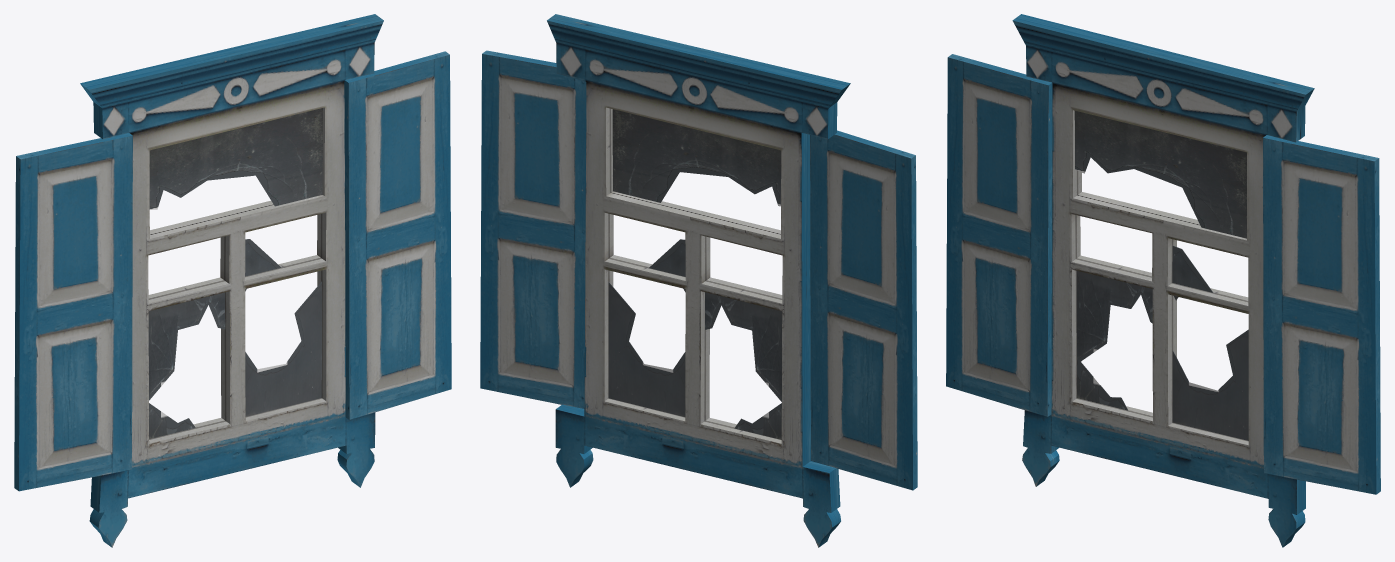
The model's file is Windows_12_2.FBX.
3 views of the same model, side by side, from view 1: azimuth 30°, elevation 25°; view 2: azimuth 150°, elevation 25°; view 3: azimuth 330°, elevation 25° (orthographic).
Visible parts, largest first — view 1: Windows_12_2, Windows_12_2glass (×4); view 2: Windows_12_2, Windows_12_2glass (×4); view 3: Windows_12_2, Windows_12_2glass (×4).
Boxes of the visible parts, <box> form: Windows_12_2: <box>14,14,451,547</box>; Windows_12_2glass (×4): <box>148,108,322,439</box>; Windows_12_2: <box>480,14,917,547</box>; Windows_12_2glass (×4): <box>608,109,782,439</box>; Windows_12_2: <box>946,14,1380,547</box>; Windows_12_2glass (×4): <box>1074,111,1248,440</box>.
Size of the model in its own units: 195 by 10.03 by 200.
Materials: 2 (2 with a texture image).
